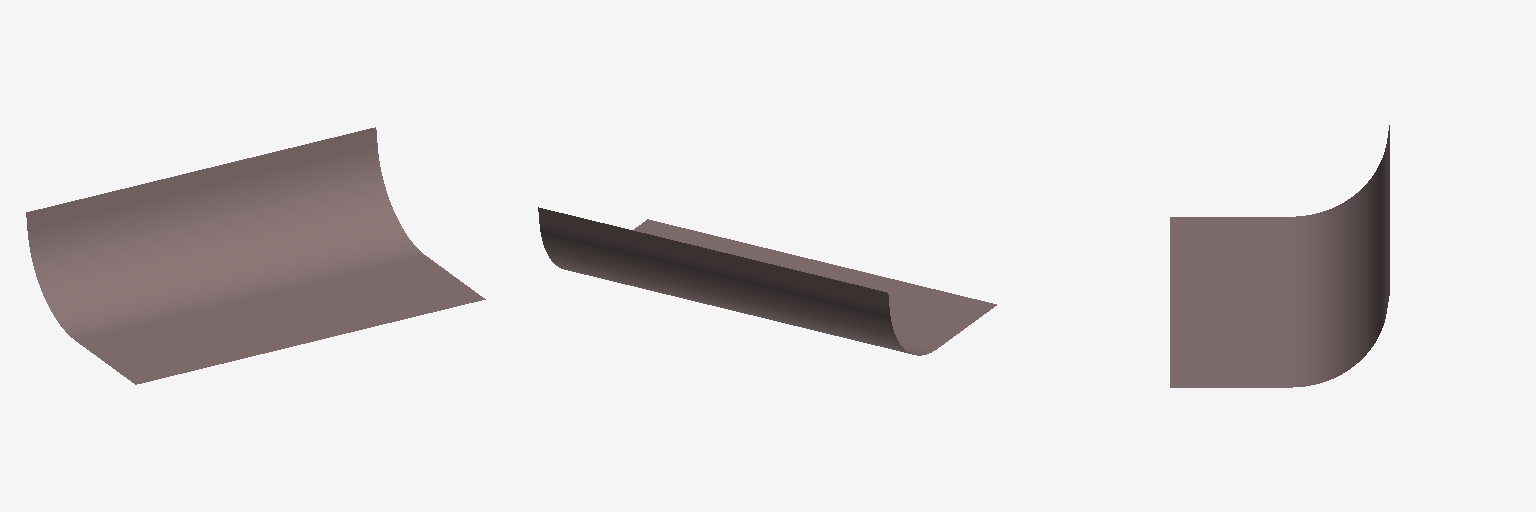
The model's file is backdrop.obj.
3 views of the same model, side by side, from view 1: azimuth 30°, elevation 25°; view 2: azimuth 150°, elevation 25°; view 3: azimuth 270°, elevation 25° (orthographic).
Visible parts, largest first — view 1: backdrop:backdrop_backdrop:backdrop1_backdrop:group2_backdrop:p; view 2: backdrop:backdrop_backdrop:backdrop1_backdrop:group2_backdrop:p; view 3: backdrop:backdrop_backdrop:backdrop1_backdrop:group2_backdrop:p.
Boxes of the visible parts, <box> form: backdrop:backdrop_backdrop:backdrop1_backdrop:group2_backdrop:p: <box>26,127,485,384</box>; backdrop:backdrop_backdrop:backdrop1_backdrop:group2_backdrop:p: <box>538,207,996,355</box>; backdrop:backdrop_backdrop:backdrop1_backdrop:group2_backdrop:p: <box>1170,125,1389,387</box>.
Size of the model in its own units: 235 by 59.05 by 127.